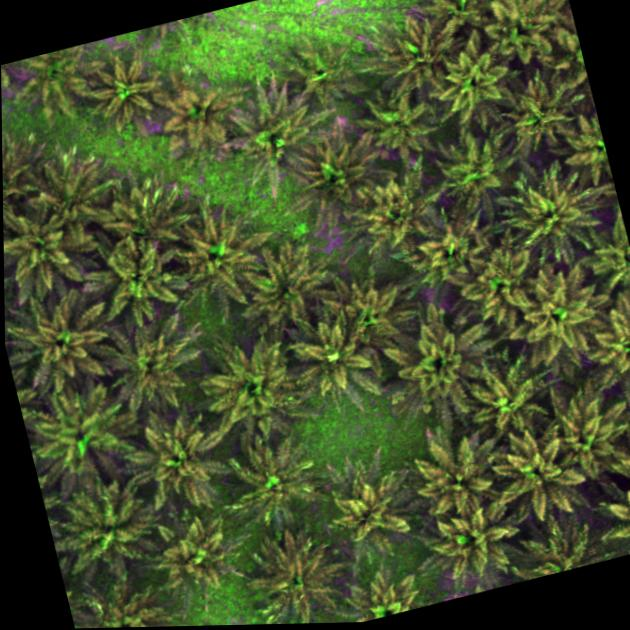oilpalm: (43, 478, 160, 590), (18, 378, 136, 489), (4, 296, 119, 408), (231, 518, 350, 625), (22, 143, 127, 263), (194, 334, 309, 443), (120, 410, 234, 518), (3, 190, 100, 313), (86, 229, 196, 333), (403, 421, 510, 526), (100, 317, 209, 418), (486, 428, 593, 530), (234, 233, 336, 340), (96, 170, 197, 278), (287, 312, 389, 414), (415, 496, 523, 592), (446, 234, 550, 333), (221, 437, 325, 535), (317, 468, 420, 565), (500, 168, 604, 264), (389, 315, 493, 410), (224, 96, 329, 185), (147, 506, 241, 603), (506, 274, 606, 365), (147, 67, 247, 157), (174, 212, 267, 304), (461, 359, 553, 449), (350, 171, 442, 260), (320, 275, 417, 359), (545, 396, 630, 489), (431, 128, 519, 217), (427, 41, 516, 127), (85, 47, 171, 136), (353, 90, 446, 169), (402, 216, 491, 295), (474, 0, 564, 76), (66, 572, 178, 629), (376, 20, 457, 98), (501, 79, 581, 156), (296, 143, 377, 218), (281, 42, 362, 117), (420, 0, 503, 48), (587, 301, 630, 392), (598, 471, 630, 558), (607, 426, 630, 513)
